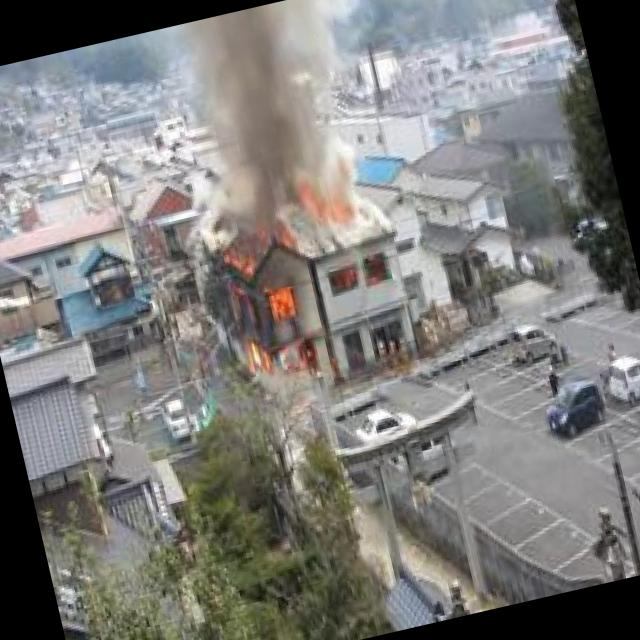Fire: (216, 244, 316, 380)
Smoke: (174, 0, 364, 222)
